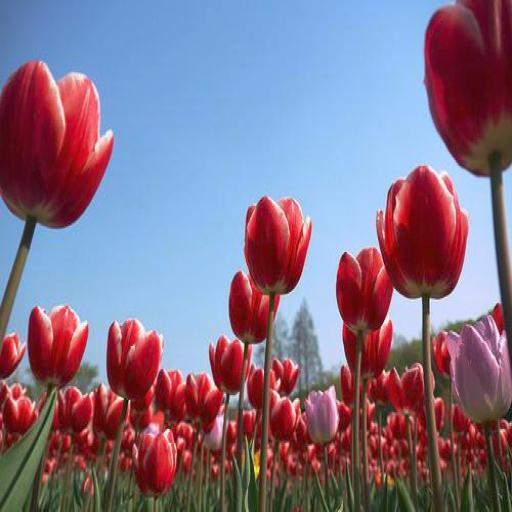tulip: (377, 164, 471, 300), (446, 315, 512, 423), (246, 198, 311, 292), (29, 303, 89, 386), (106, 316, 164, 400), (336, 248, 390, 330), (230, 269, 282, 341), (135, 431, 177, 495), (209, 335, 253, 392), (186, 370, 224, 426), (387, 365, 429, 415), (303, 386, 339, 441), (58, 386, 94, 434), (269, 389, 301, 440), (246, 364, 278, 404)
